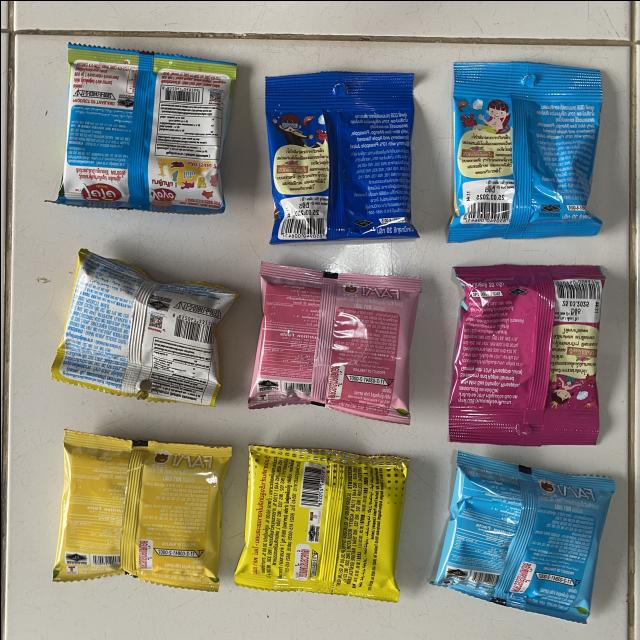plastik: (432, 451, 614, 622), (56, 43, 236, 213), (51, 249, 237, 405), (52, 430, 231, 591), (448, 264, 604, 445), (247, 262, 420, 424), (447, 60, 601, 241), (234, 444, 408, 601), (264, 71, 418, 243)
